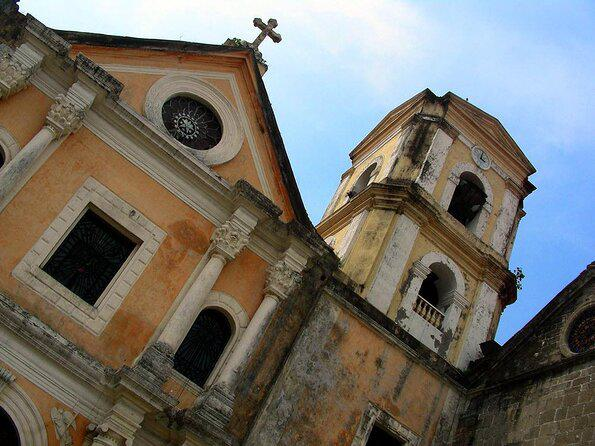Environmental Damage: (507, 263, 527, 303)
San Agustin Church: (2, 5, 520, 446)
